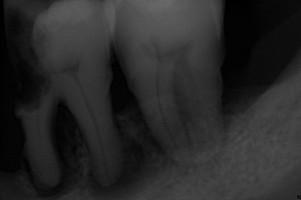Dental Caries: (85, 98, 175, 200), (24, 101, 84, 197)
